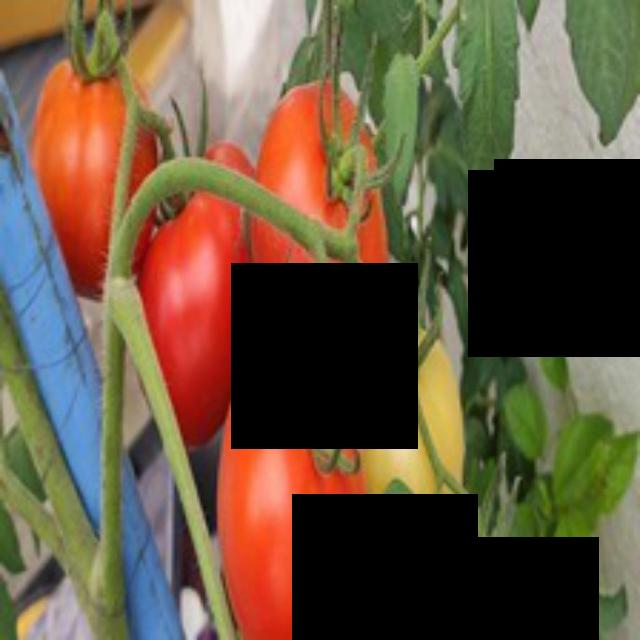tomato: (191, 306, 414, 636)
